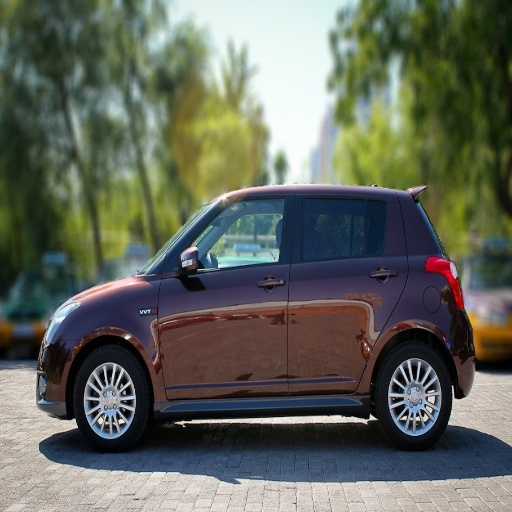back_left_door: (288, 192, 405, 390)
front_left_door: (160, 193, 298, 398)
